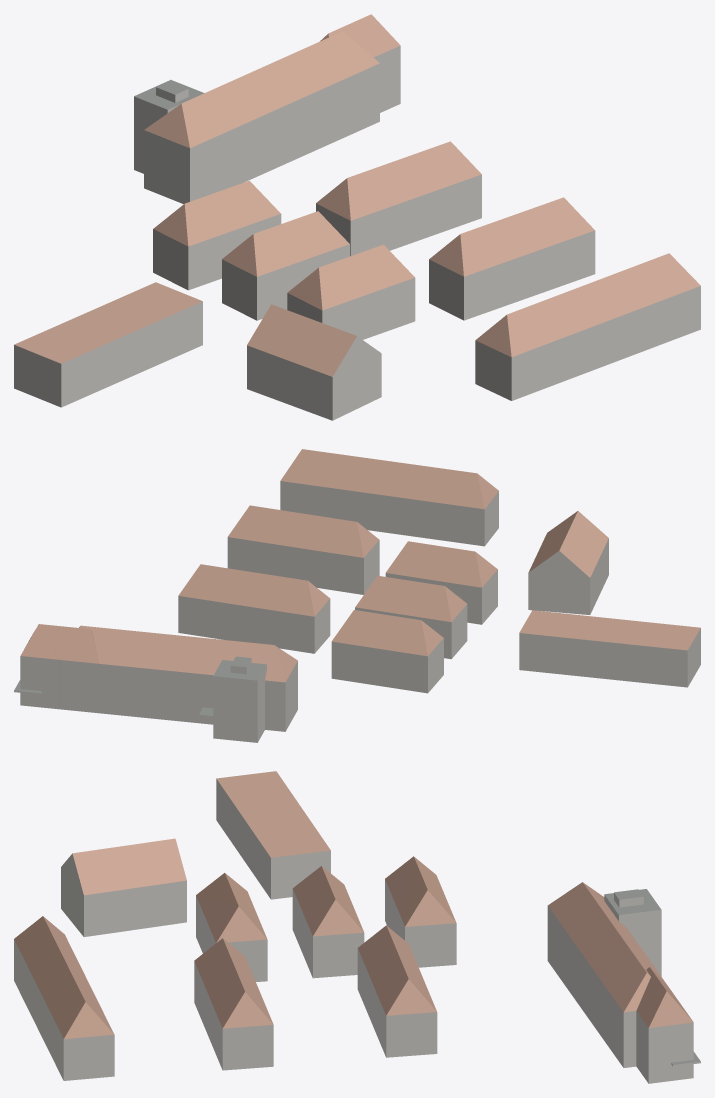
The model's file is gridID_53.dae.
3 renders of one model, top to bottom at view 1: azimuth 30°, elevation 25°; view 2: azimuth 150°, elevation 25°; view 3: azimuth 270°, elevation 25°, orthographic. The views are drawn at different scales.
Parts seen in each view (by area): view 1: model_gridID_53_w296131133, model_gridID_53_w376378588, model_gridID_53_w376378596, model_gridID_53_w376378561, model_gridID_53_w376378567, model_gridID_53_w376378536, model_gridID_53_w376378583, model_gridID_53_w376378558, model_gridID_53_w376378585; view 2: model_gridID_53_w296131133, model_gridID_53_w376378588, model_gridID_53_w376378596, model_gridID_53_w376378567, model_gridID_53_w376378561, model_gridID_53_w376378558, model_gridID_53_w376378536, model_gridID_53_w376378583, model_gridID_53_w376378585; view 3: model_gridID_53_w296131133, model_gridID_53_w376378536, model_gridID_53_w376378588, model_gridID_53_w376378596, model_gridID_53_w376378567, model_gridID_53_w376378561, model_gridID_53_w376378585, model_gridID_53_w376378558, model_gridID_53_w376378583.
Boxes of the visible parts, box(x1,y1,x2,y2) form: model_gridID_53_w296131133: box(134, 14, 400, 204); model_gridID_53_w376378588: box(475, 253, 700, 400); model_gridID_53_w376378596: box(14, 282, 202, 407); model_gridID_53_w376378561: box(429, 197, 595, 320); model_gridID_53_w376378567: box(316, 141, 481, 256); model_gridID_53_w376378536: box(247, 304, 381, 420); model_gridID_53_w376378583: box(287, 244, 415, 339); model_gridID_53_w376378558: box(153, 180, 281, 290); model_gridID_53_w376378585: box(222, 211, 349, 320); model_gridID_53_w296131133: box(14, 624, 297, 742); model_gridID_53_w376378588: box(280, 449, 498, 546); model_gridID_53_w376378596: box(519, 610, 700, 687); model_gridID_53_w376378567: box(178, 564, 330, 653); model_gridID_53_w376378561: box(227, 505, 379, 594); model_gridID_53_w376378558: box(331, 610, 443, 693); model_gridID_53_w376378536: box(528, 511, 608, 614); model_gridID_53_w376378583: box(385, 541, 497, 624); model_gridID_53_w376378585: box(355, 575, 467, 659); model_gridID_53_w296131133: box(547, 882, 700, 1083); model_gridID_53_w376378536: box(61, 838, 186, 936); model_gridID_53_w376378588: box(14, 916, 114, 1080); model_gridID_53_w376378596: box(216, 771, 330, 899); model_gridID_53_w376378567: box(357, 925, 437, 1057); model_gridID_53_w376378561: box(194, 938, 273, 1070); model_gridID_53_w376378585: box(292, 866, 364, 978); model_gridID_53_w376378558: box(385, 856, 456, 967); model_gridID_53_w376378583: box(196, 873, 267, 981).
Size of the model in its own units: 104 by 112 by 15.
